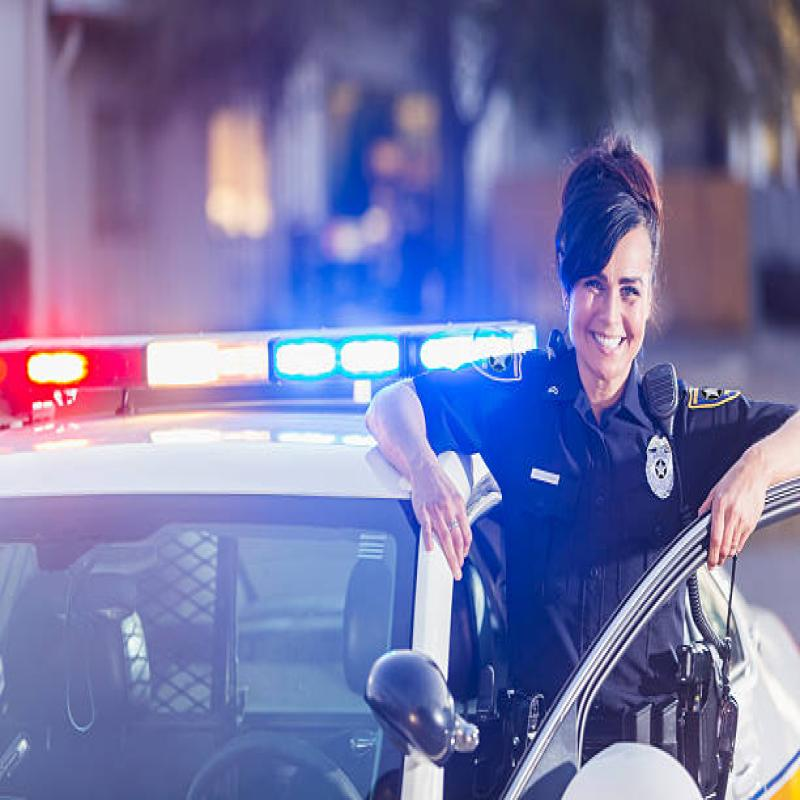AmbulanceSiren: (0, 304, 561, 435)
